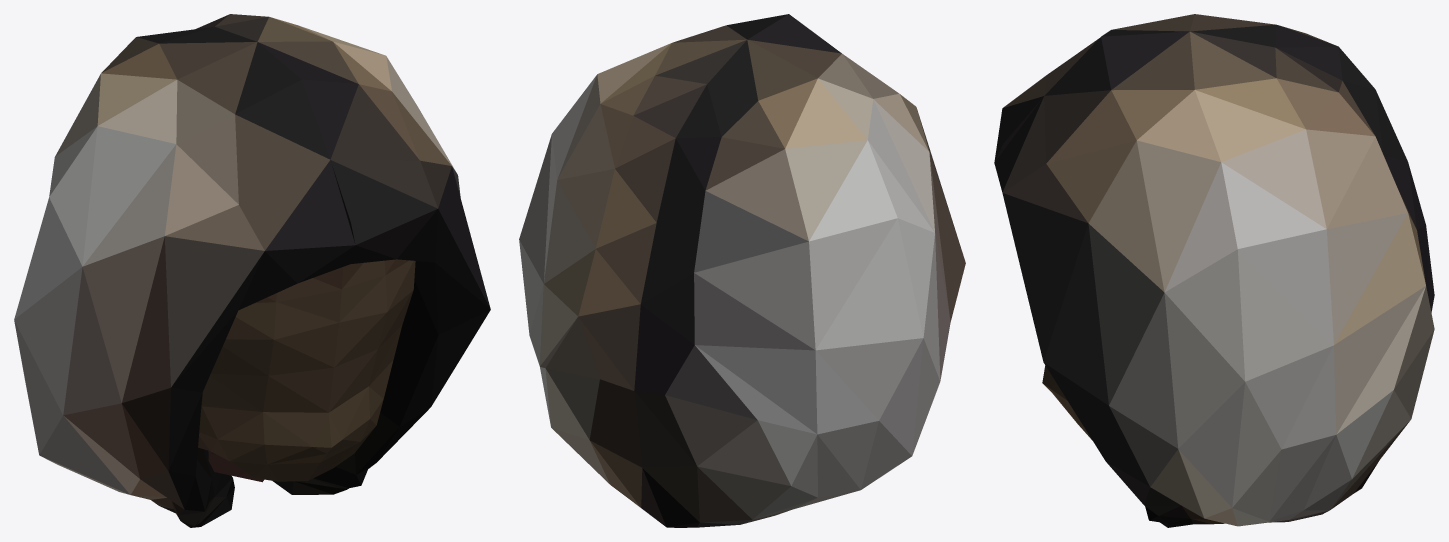
File: helm_darkskin_global_hood.fbx
3 views of the same model, side by side, from view 1: azimuth 30°, elevation 25°; view 2: azimuth 150°, elevation 25°; view 3: azimuth 270°, elevation 25° (orthographic). The views are drawn at different scales.
Visible parts, largest first — view 1: helm_darkskin_global_hood; view 2: helm_darkskin_global_hood; view 3: helm_darkskin_global_hood.
Boxes of the visible parts, <box> form: helm_darkskin_global_hood: <box>14,14,490,527</box>; helm_darkskin_global_hood: <box>519,14,965,527</box>; helm_darkskin_global_hood: <box>994,14,1434,527</box>.
Size of the model in its own units: 1.41 by 1.45 by 1.24.
